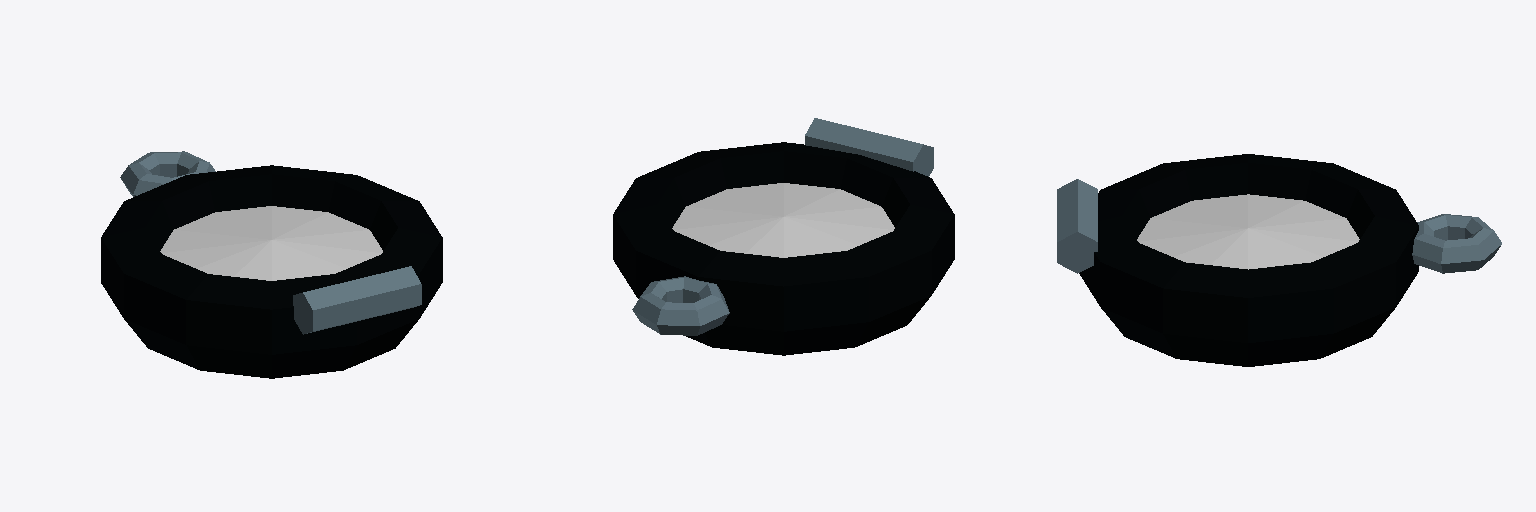
Rendered from compass.obj.
3 views of the same model, side by side, from view 1: azimuth 30°, elevation 25°; view 2: azimuth 150°, elevation 25°; view 3: azimuth 270°, elevation 25° (orthographic).
Parts seen in each view (by area): view 1: compass_Cylinder.099; view 2: compass_Cylinder.099; view 3: compass_Cylinder.099.
Boxes of the visible parts, x1,y1,x2,y2 form: compass_Cylinder.099: [101, 151, 442, 378]; compass_Cylinder.099: [613, 118, 954, 355]; compass_Cylinder.099: [1057, 154, 1501, 366].
Size of the model in its own units: 0.3546 by 0.1166 by 0.462.